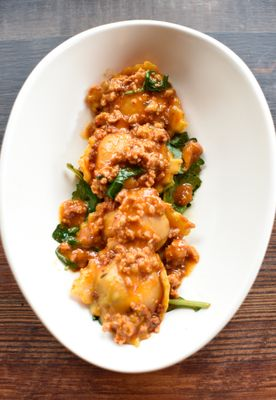curry: (0, 13, 276, 399)
